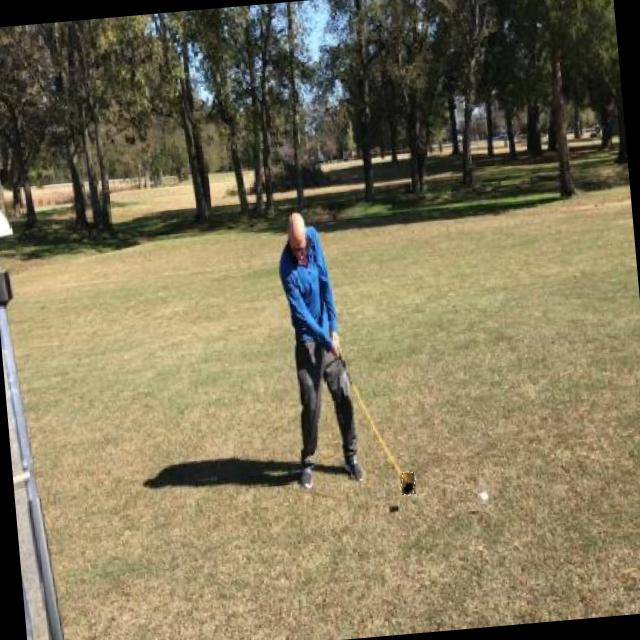club head: (400, 472, 416, 494)
